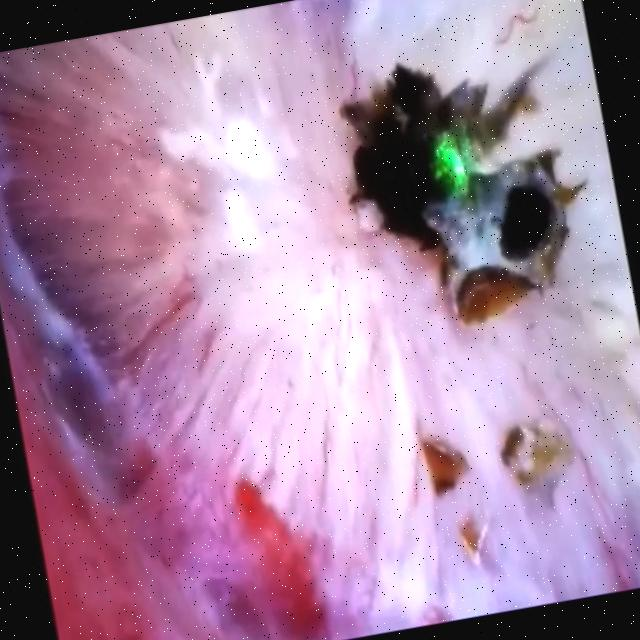laser-fibre: (467, 30, 604, 171)
laser_dot: (430, 129, 475, 194)
stone-new: (342, 64, 585, 320), (501, 421, 573, 487), (422, 440, 466, 492), (459, 518, 484, 563)
